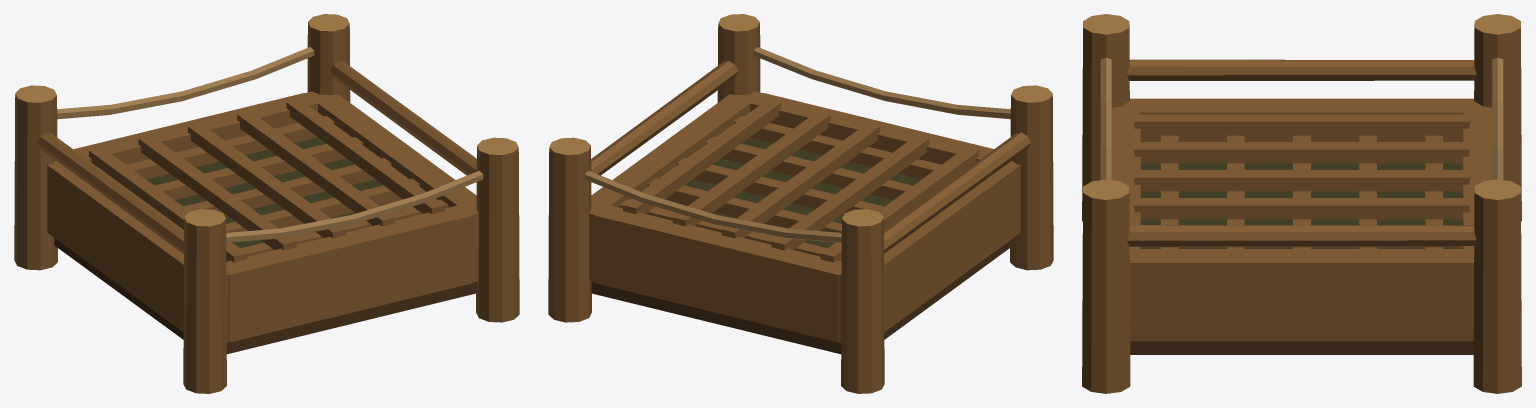
File: incense_shrine.obj
The picture shows the model from 3 angles, left to right: view 1: azimuth 30°, elevation 25°; view 2: azimuth 150°, elevation 25°; view 3: azimuth 270°, elevation 25°; orthographic projection. The views are drawn at different scales.
Visible parts, largest first — view 1: incense_shrine; view 2: incense_shrine; view 3: incense_shrine.
Part boxes in pixels (box(x1,y1,x2,y2)): incense_shrine: box(14, 14, 519, 393); incense_shrine: box(548, 14, 1053, 393); incense_shrine: box(1082, 14, 1521, 393).
Size of the model in its own units: 1.74 by 0.84 by 1.73.
